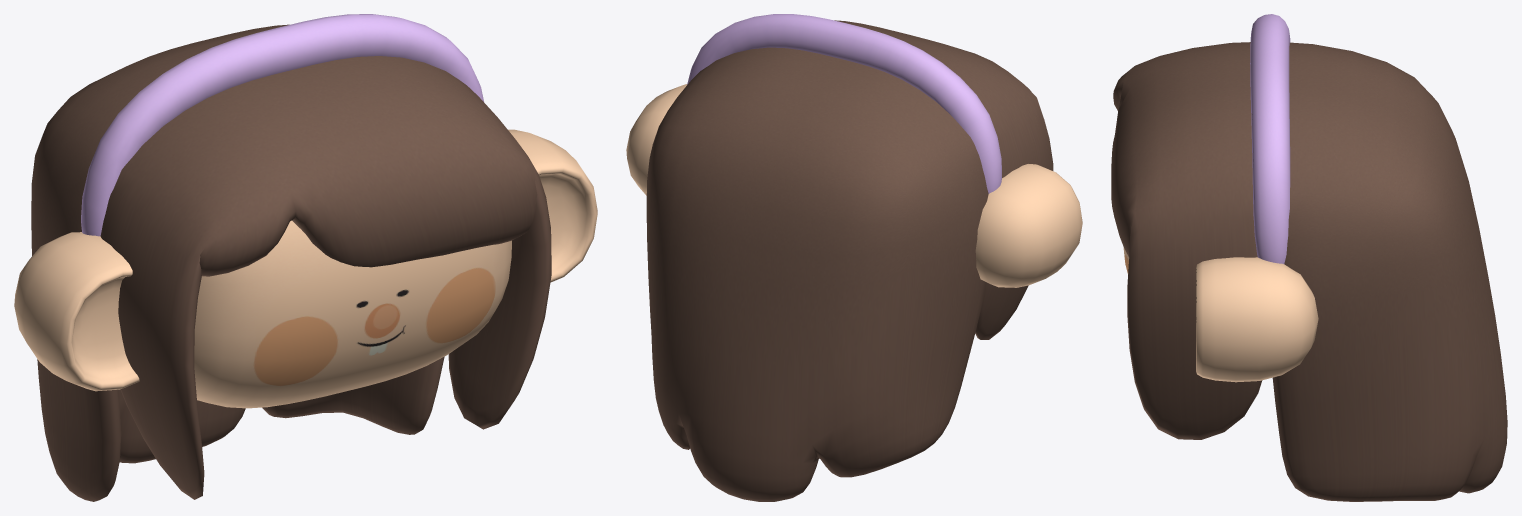
The model's file is woman head.fbx.
3 renders of one model, left to right at view 1: azimuth 30°, elevation 25°; view 2: azimuth 150°, elevation 25°; view 3: azimuth 270°, elevation 25°, orthographic. The views are drawn at different scales.
Parts seen in each view (by area): view 1: woman_head; view 2: woman_head; view 3: woman_head.
Part boxes in pixels (box(x1,y1,x2,y2)): woman_head: box(14, 14, 597, 501); woman_head: box(626, 14, 1082, 501); woman_head: box(1111, 14, 1507, 501).
Bounding box in the file's own units: 87.5 × 78.72 × 65.15.
4 materials, 4 textured.
